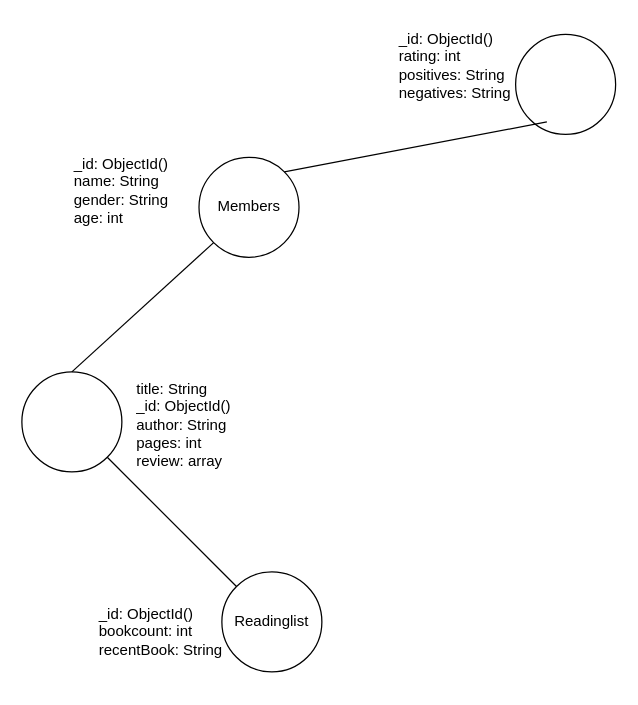
The diagram is 638 pixels wide and 705 high, and some of its shapes have lost their labels. Here are the shapes that lost their labels. From the top down, the centre of each, then its label:
(565,83): Review
(71,421): Books
